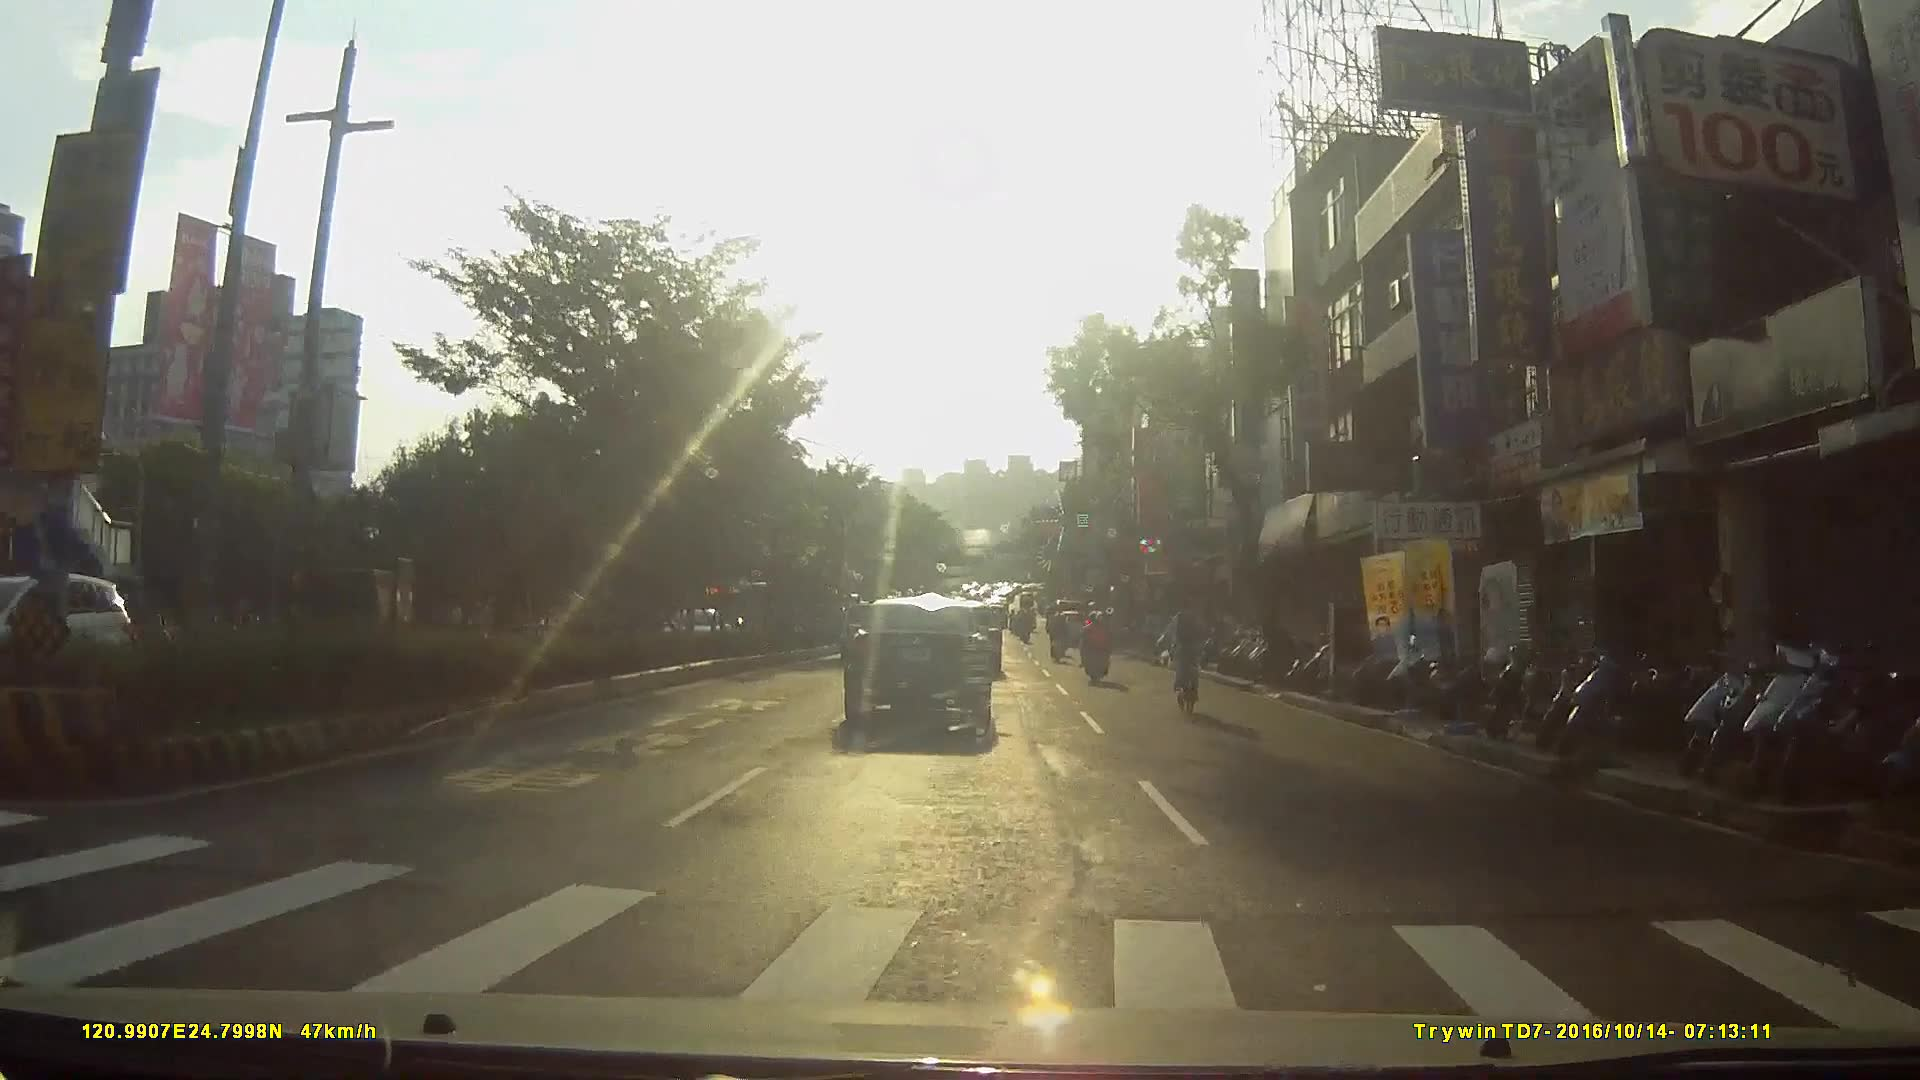rider: (1161, 588, 1217, 715), (1081, 612, 1115, 688), (1046, 612, 1070, 665)
vehicle: (843, 606, 1005, 751), (1, 571, 138, 712)
